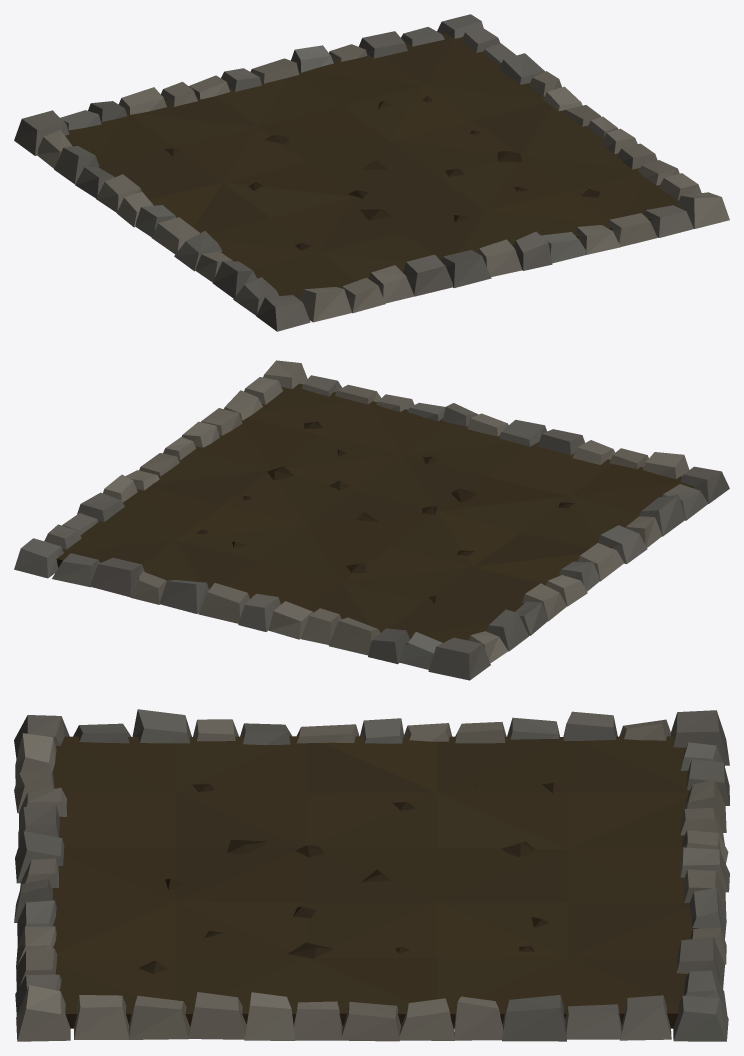
Rendered from farming-patch.obj.
3 views of the same model, one above another, from view 1: azimuth 30°, elevation 25°; view 2: azimuth 150°, elevation 25°; view 3: azimuth 270°, elevation 25° (orthographic). The views are drawn at different scales.
Parts seen in each view (by area): view 1: farming-patch; view 2: farming-patch; view 3: farming-patch.
Boxes of the visible parts, <box> form: farming-patch: <box>14,14,729,331</box>; farming-patch: <box>14,360,729,680</box>; farming-patch: <box>14,709,729,1041</box>.
Bounding box in the file's own units: 256 × 14.21 × 256.
